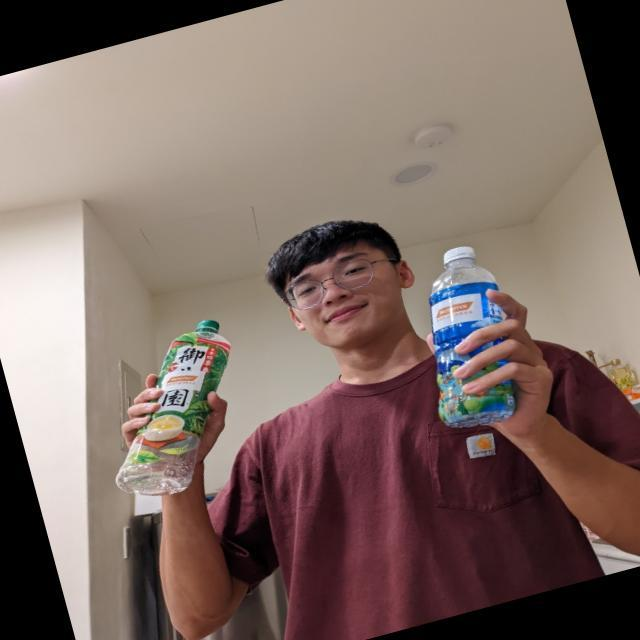good: (86, 306, 278, 506), (389, 227, 547, 442)
